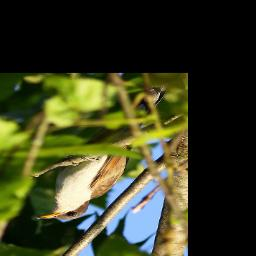Cuckoo: (32, 83, 171, 224)
